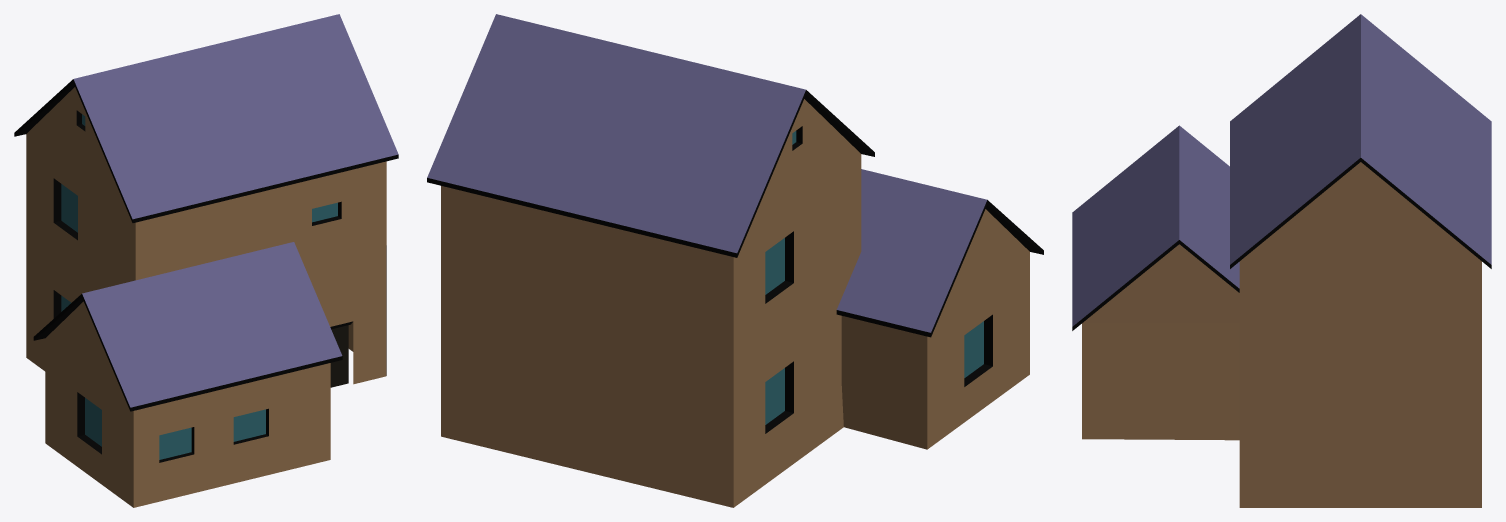
Rendered from Dubbelt_Brunt_hus2.fbx.
The picture shows the model from 3 angles, left to right: view 1: azimuth 30°, elevation 25°; view 2: azimuth 150°, elevation 25°; view 3: azimuth 270°, elevation 25°; orthographic projection. The views are drawn at different scales.
Parts seen in each view (by area): view 1: Plane.001; view 2: Plane.001; view 3: Plane.001.
Part boxes in pixels (x1,y1,x2,y2): Plane.001: (14, 14, 398, 507); Plane.001: (427, 14, 1043, 507); Plane.001: (1072, 14, 1491, 507).
Bounding box in the file's own units: 8.67 × 7.82 × 8.38.
